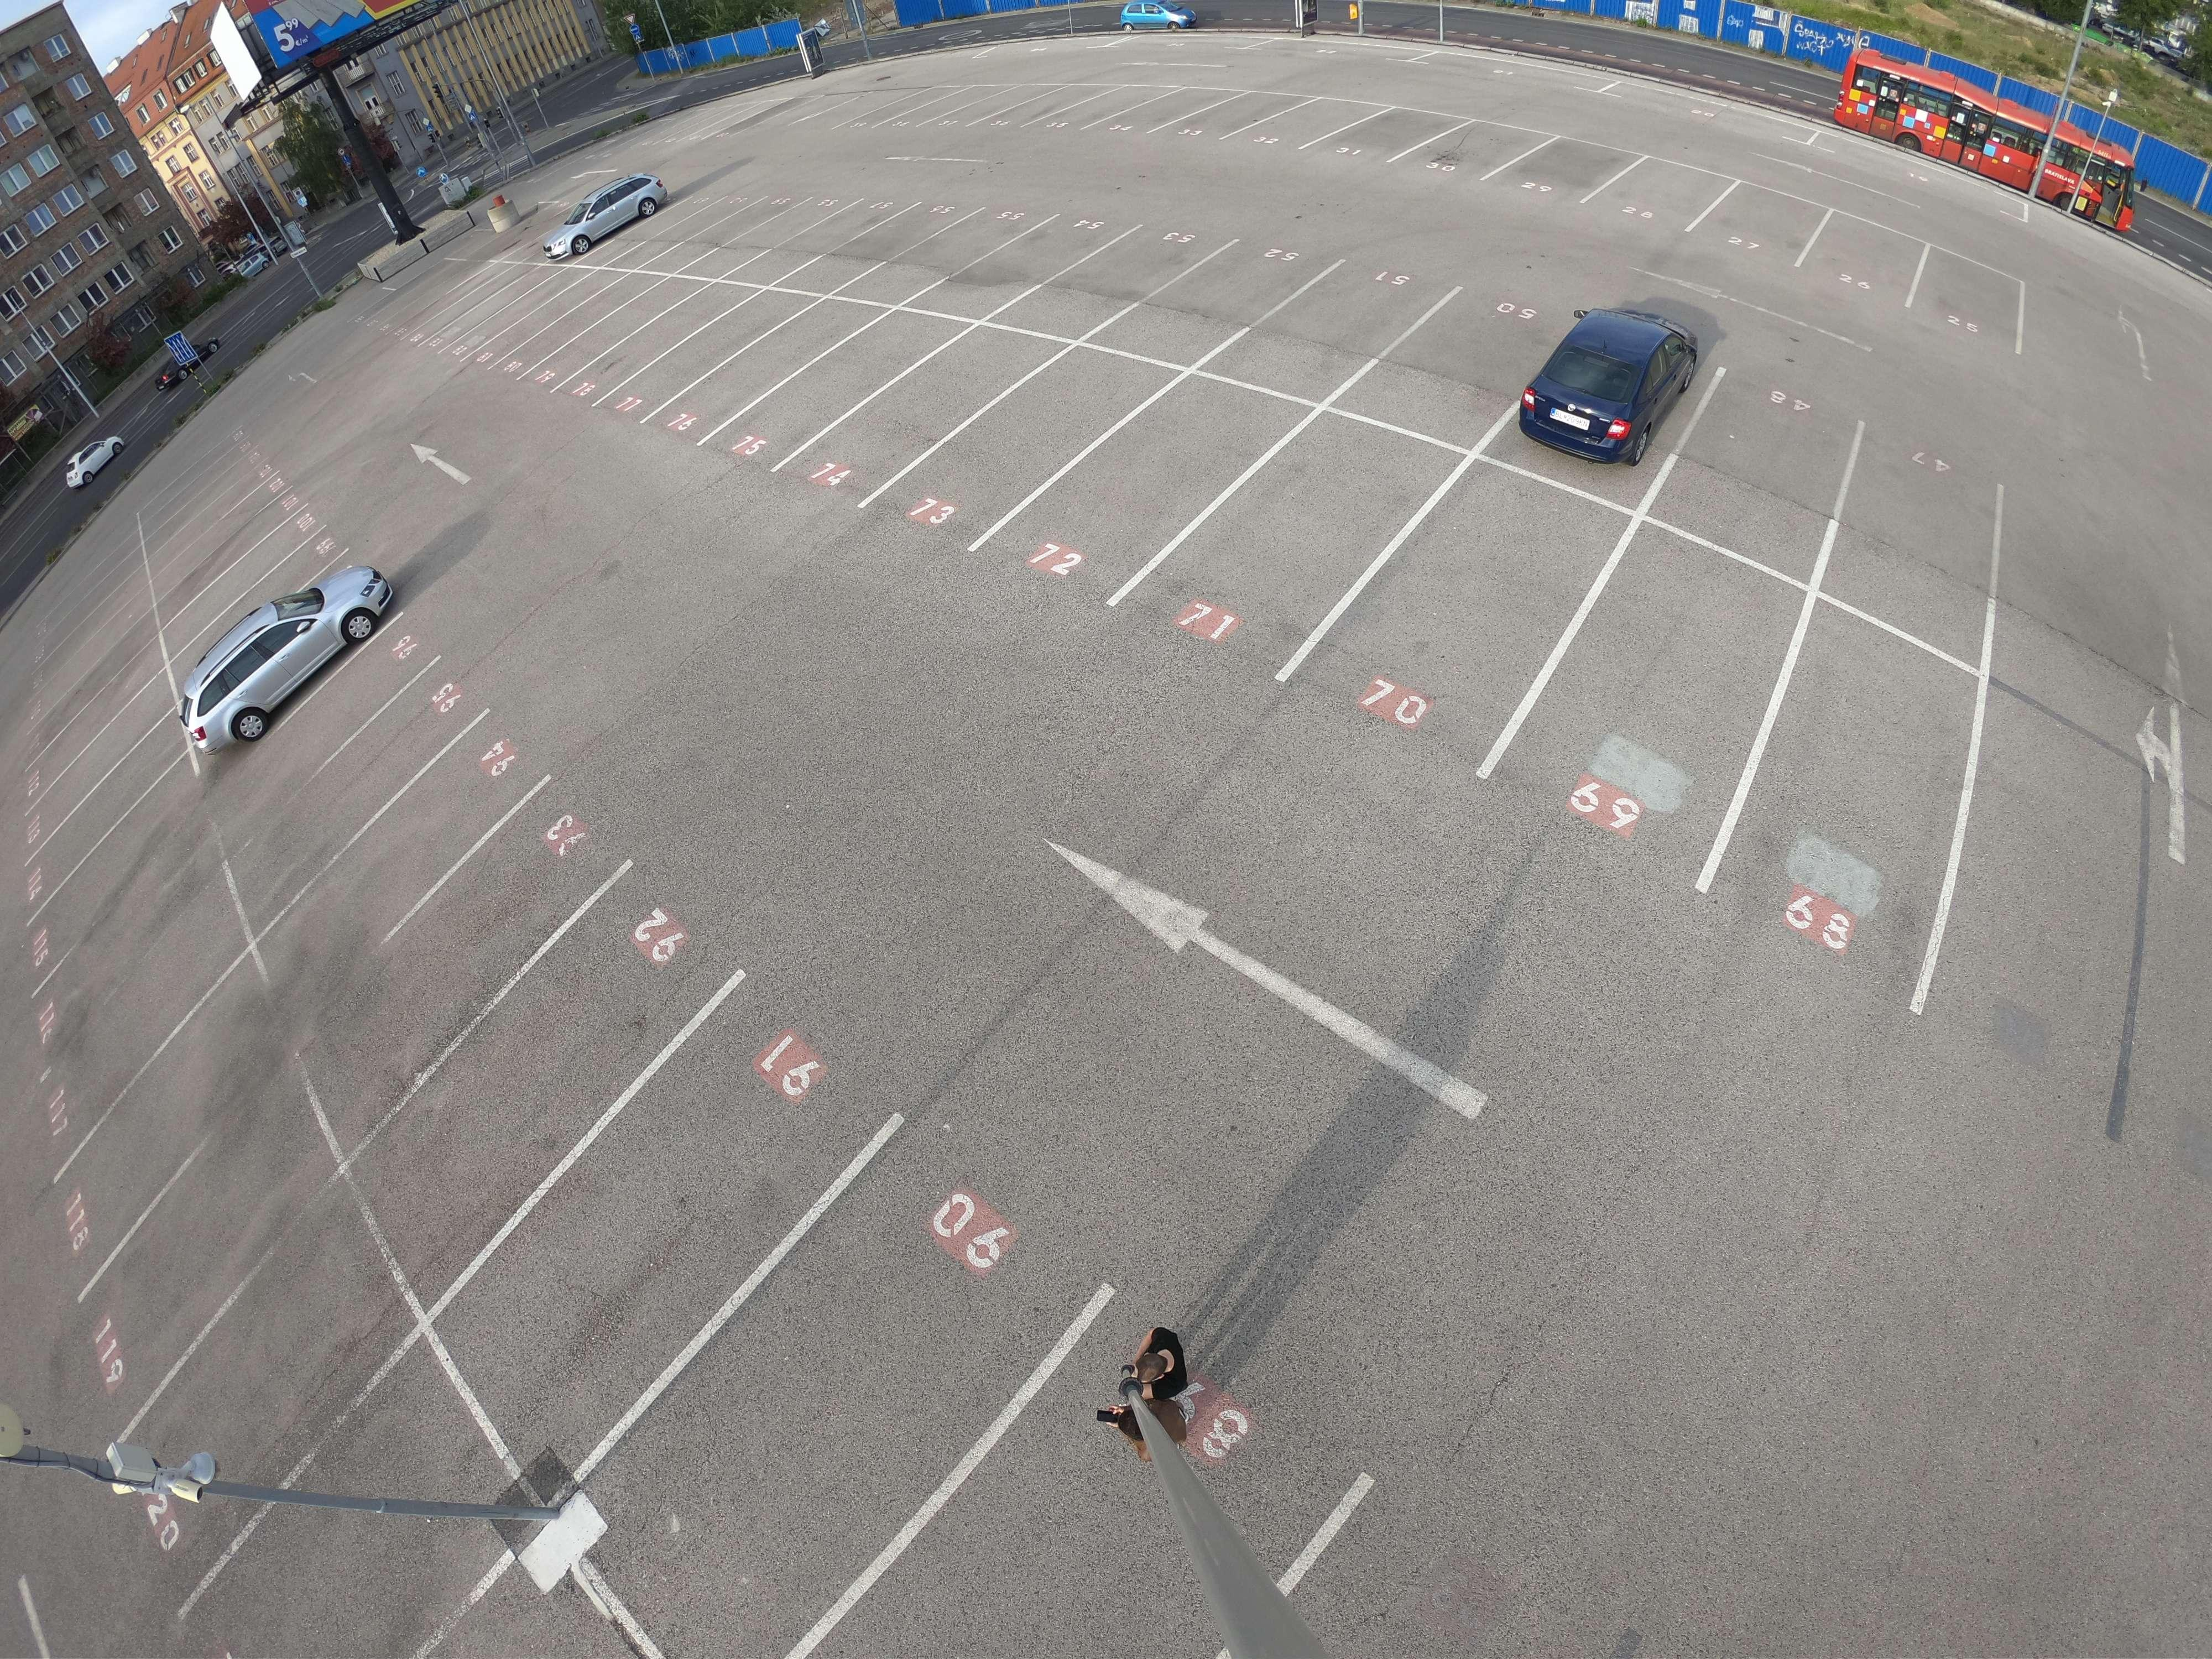empty: (179, 575, 388, 746), (1496, 305, 1707, 469), (540, 173, 667, 251)
occupied: (979, 1446, 1245, 1659), (719, 1316, 958, 1485), (291, 1469, 462, 1640), (1777, 688, 1963, 831), (556, 1168, 745, 1302), (1581, 615, 1759, 742), (171, 1368, 320, 1499), (1392, 538, 1557, 652), (1848, 491, 1996, 592), (469, 1026, 603, 1127), (1231, 477, 1371, 566), (1698, 425, 1827, 514), (1096, 432, 1216, 512), (395, 929, 503, 1018), (141, 1206, 226, 1303), (105, 951, 202, 1037), (1406, 336, 1521, 403), (108, 1091, 185, 1183), (984, 399, 1082, 462), (1285, 300, 1392, 356), (374, 817, 455, 882), (308, 756, 387, 821), (118, 866, 185, 938), (1824, 232, 1902, 289), (1933, 272, 2006, 328), (895, 376, 977, 425), (1179, 288, 1271, 329), (822, 345, 897, 390), (1082, 254, 1163, 293), (1622, 174, 1693, 218), (1728, 207, 1797, 251), (75, 849, 124, 906), (1527, 153, 1599, 190), (894, 240, 954, 282), (747, 340, 812, 378), (1432, 139, 1496, 174), (1005, 242, 1073, 274), (1266, 113, 1331, 145), (622, 326, 686, 357), (1359, 129, 1421, 160), (1200, 108, 1259, 141), (691, 328, 740, 361), (98, 774, 136, 816)
